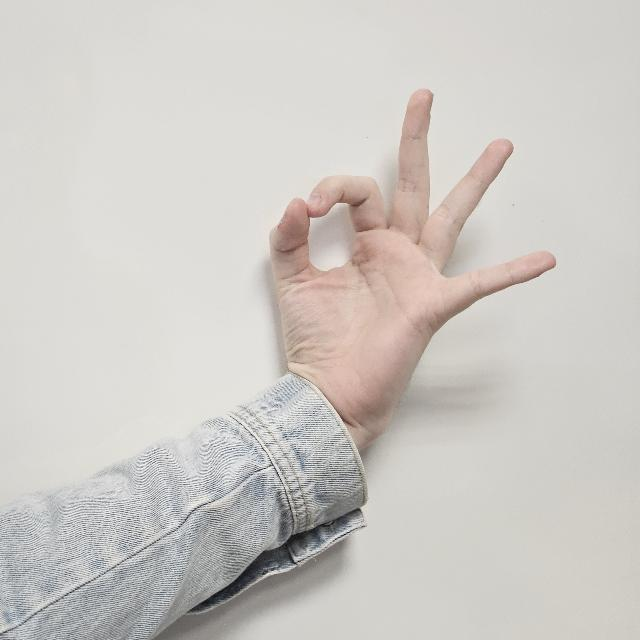Bolinha: (263, 78, 552, 454)
